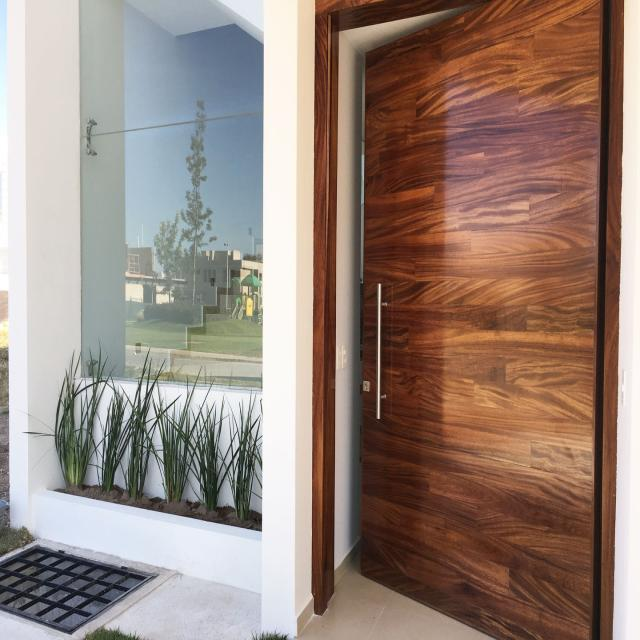door: (355, 0, 617, 639)
